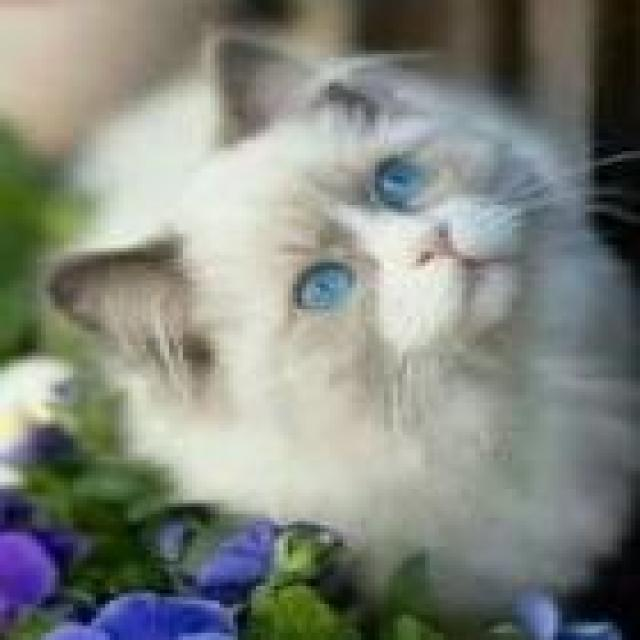Gato: (36, 21, 640, 625)
